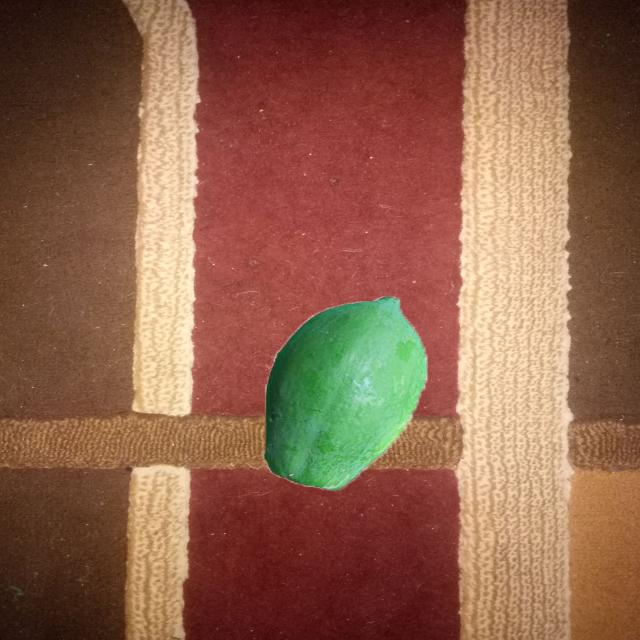Pepaya unrippen: (247, 293, 438, 489)
